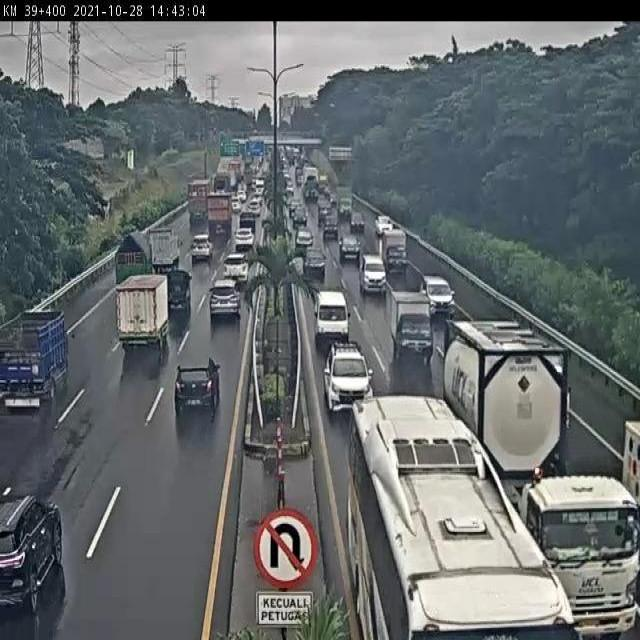car: (325, 343, 375, 421), (173, 356, 220, 423), (314, 291, 350, 356), (418, 275, 456, 324), (360, 253, 391, 300), (212, 272, 243, 317), (304, 249, 329, 283), (340, 240, 363, 272), (226, 249, 251, 276), (192, 230, 214, 258), (294, 227, 316, 254), (235, 221, 255, 244)
truck-s-: (0, 309, 76, 411), (113, 274, 166, 354), (389, 288, 433, 367), (117, 231, 150, 285), (382, 228, 408, 276), (153, 224, 182, 264)
truck-xl-: (443, 316, 638, 635)
